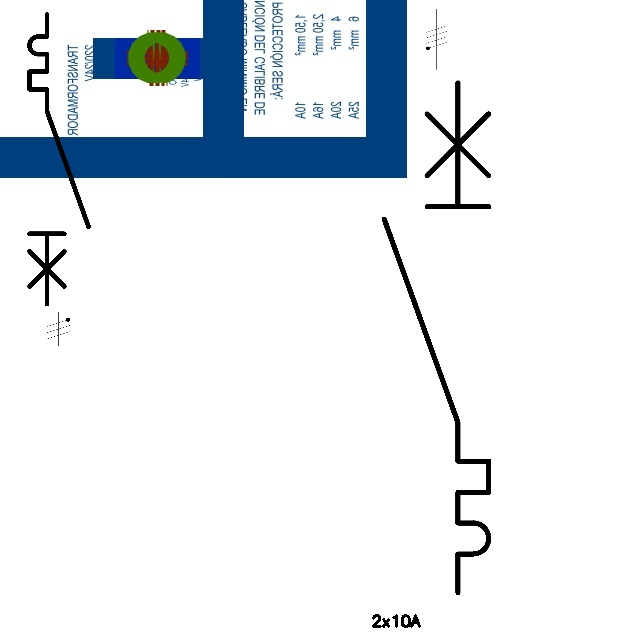interruptor_termomagnetico: (371, 69, 502, 606), (22, 7, 96, 311)
